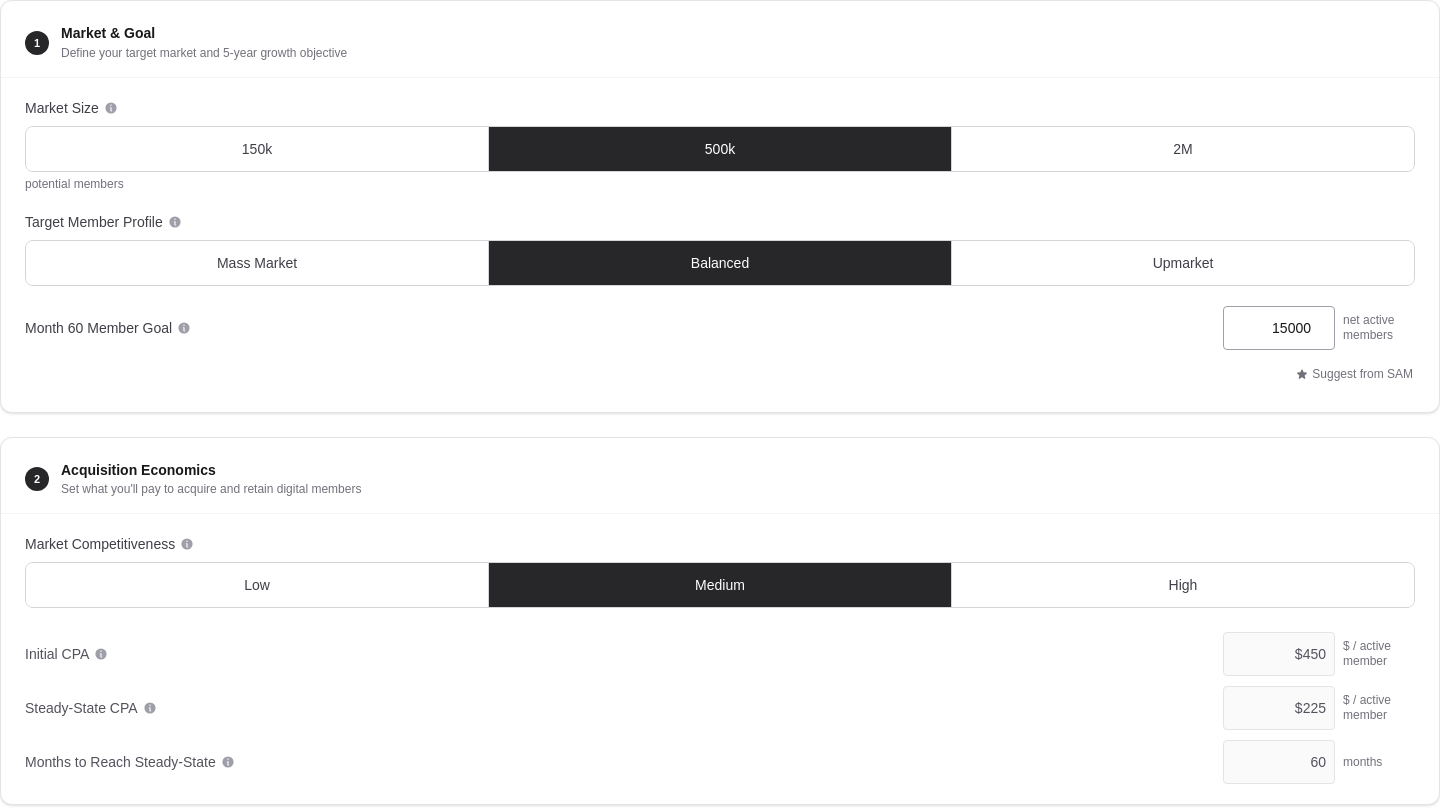
Test: ModelInputs › lever tooltips › Month 60 goal tooltip mentions Bass diffusion
Hover over the button named "more information" next to "Month 60 Member Goal": (184, 328) [176,320,192,336]
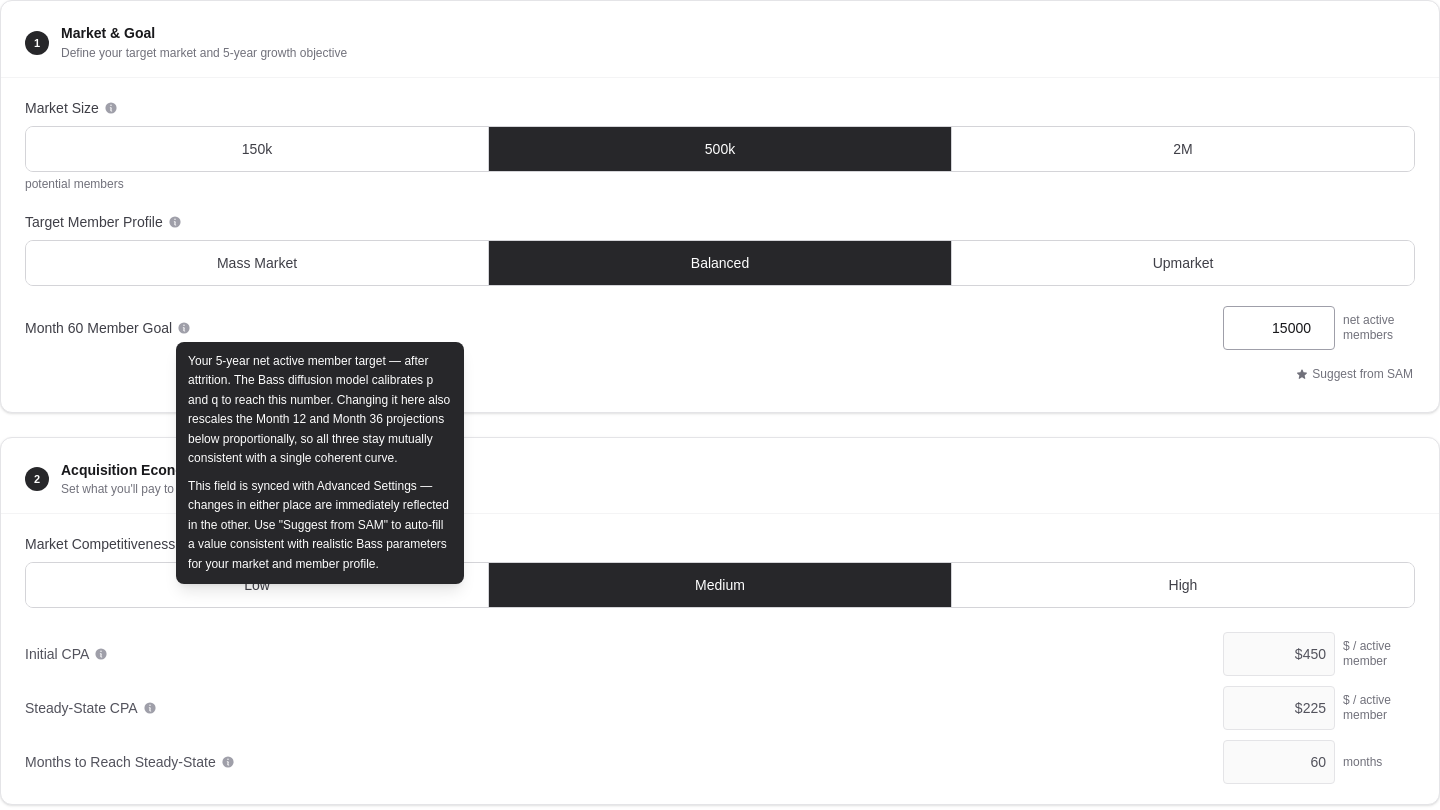
Check: the tooltip shows "Bass", box [188,354,450,465]
